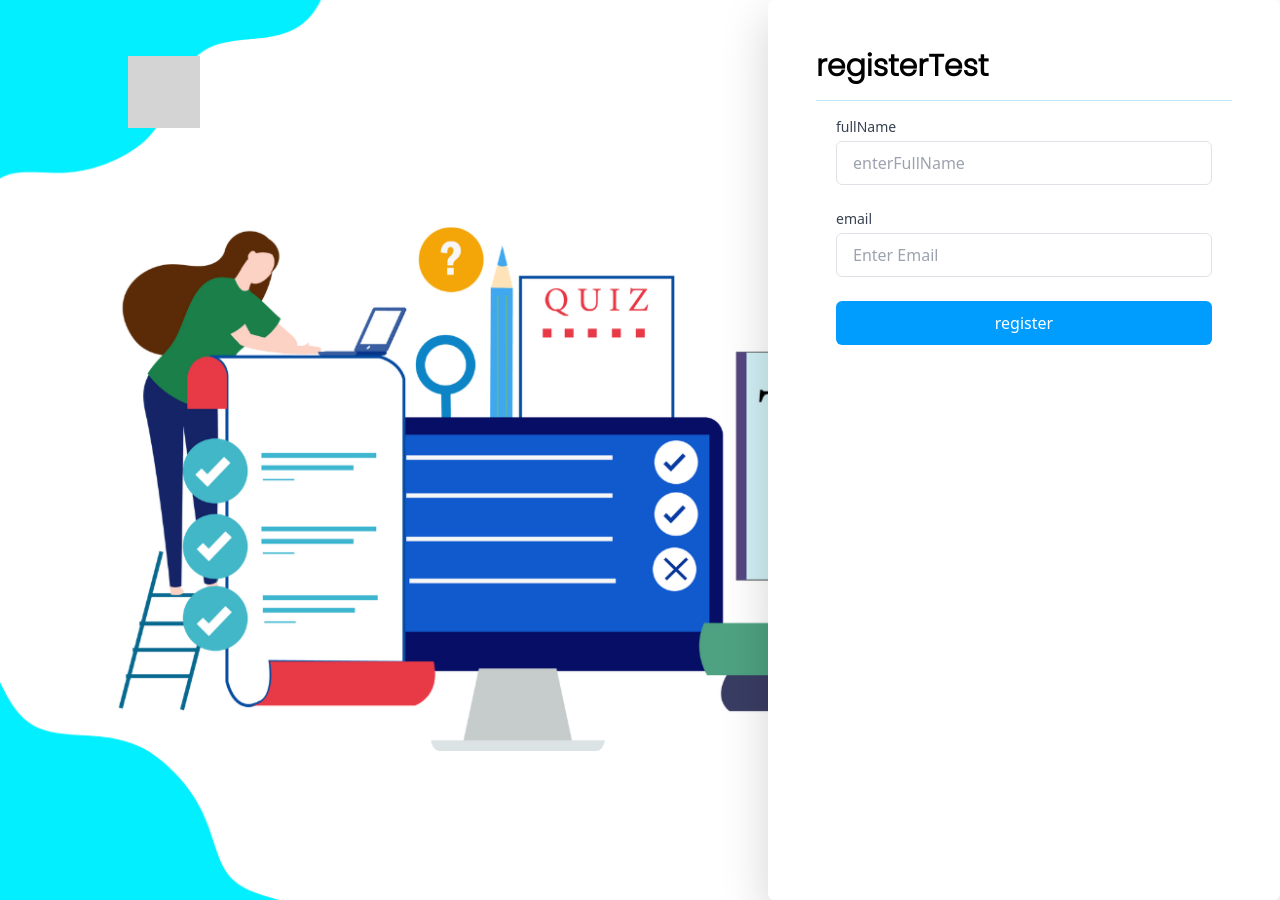
Test: Forgot Password Component › handles empty form submission
What coordinates should you click on to do the following:
click the button with test id "signup"
I would click on:
 (1024, 323)
Its box is 836,301 -> 1212,345.
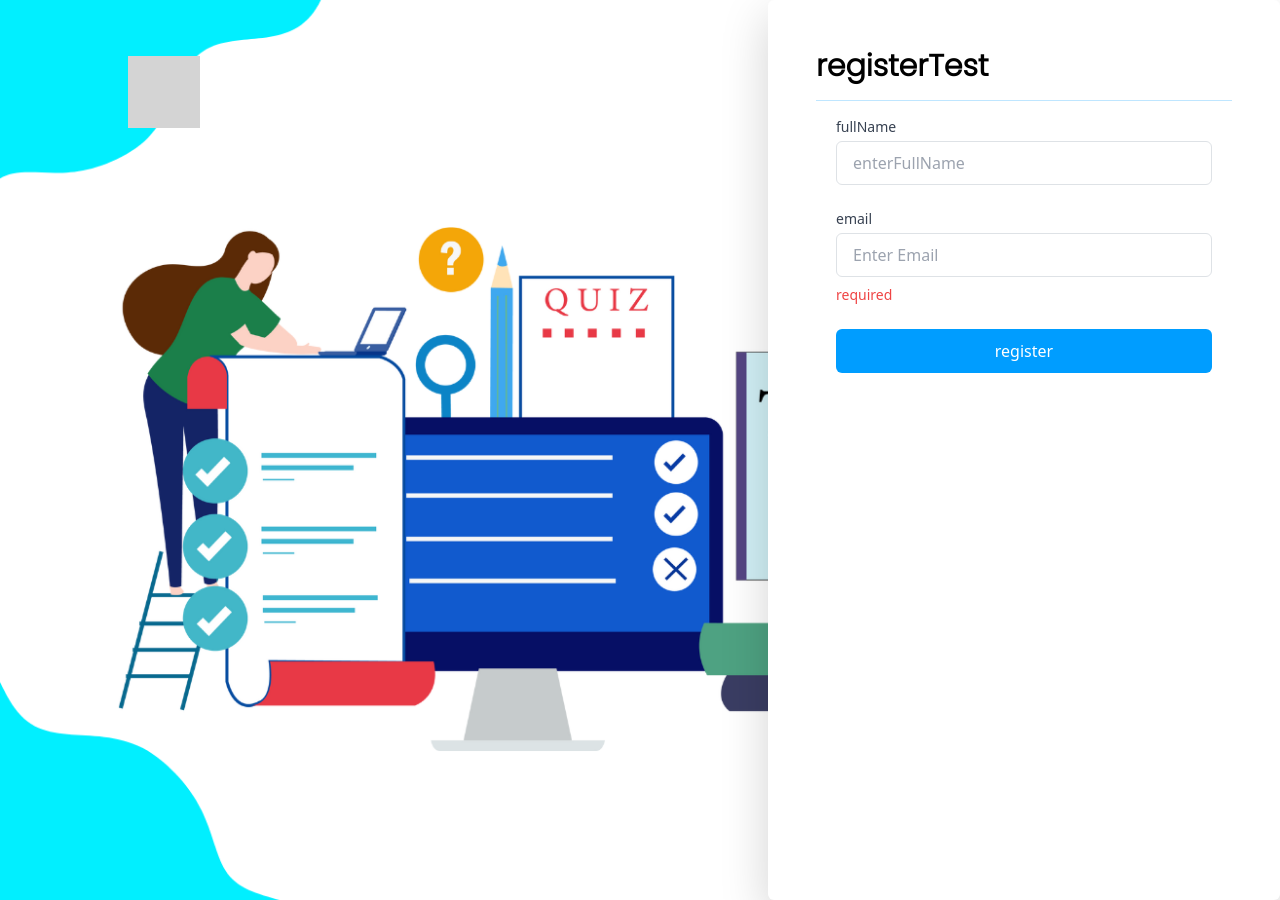
Check: the text "required" is shown, box 836,285 -> 892,304
